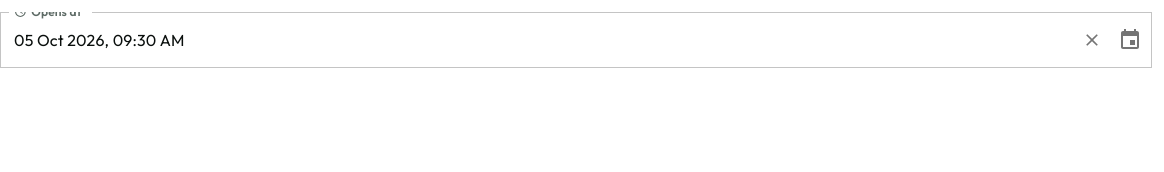
InstantField › keeps the saved moment while a new one is only half typed, and says so
Step 1. Press the mouse on the number field named "Day" → point(24, 40), box [14,30,34,50]
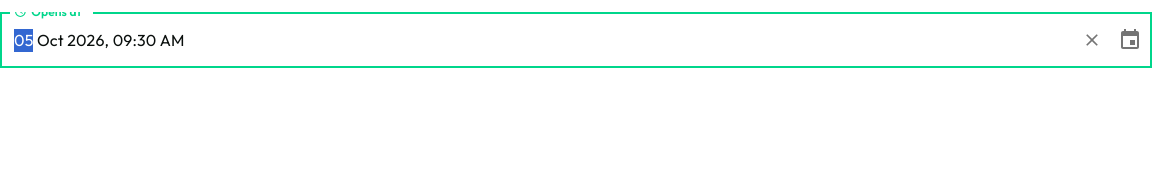
Step 2. Press Delete in the number field named "Day", box [14,30,34,50]
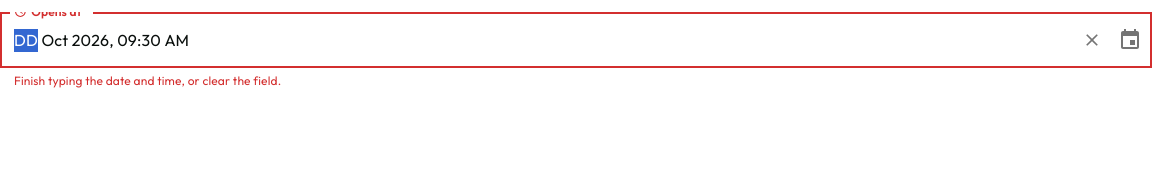
Check: the text "Finish typing the date and time, or clear the field." is shown, box [14,73,281,88]
